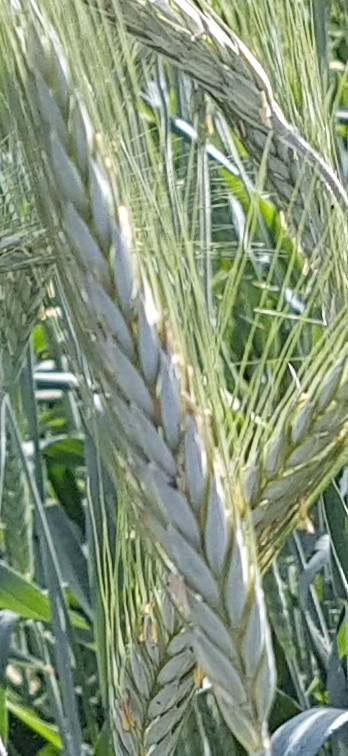Healthy Wheat: (23, 56, 286, 690)
